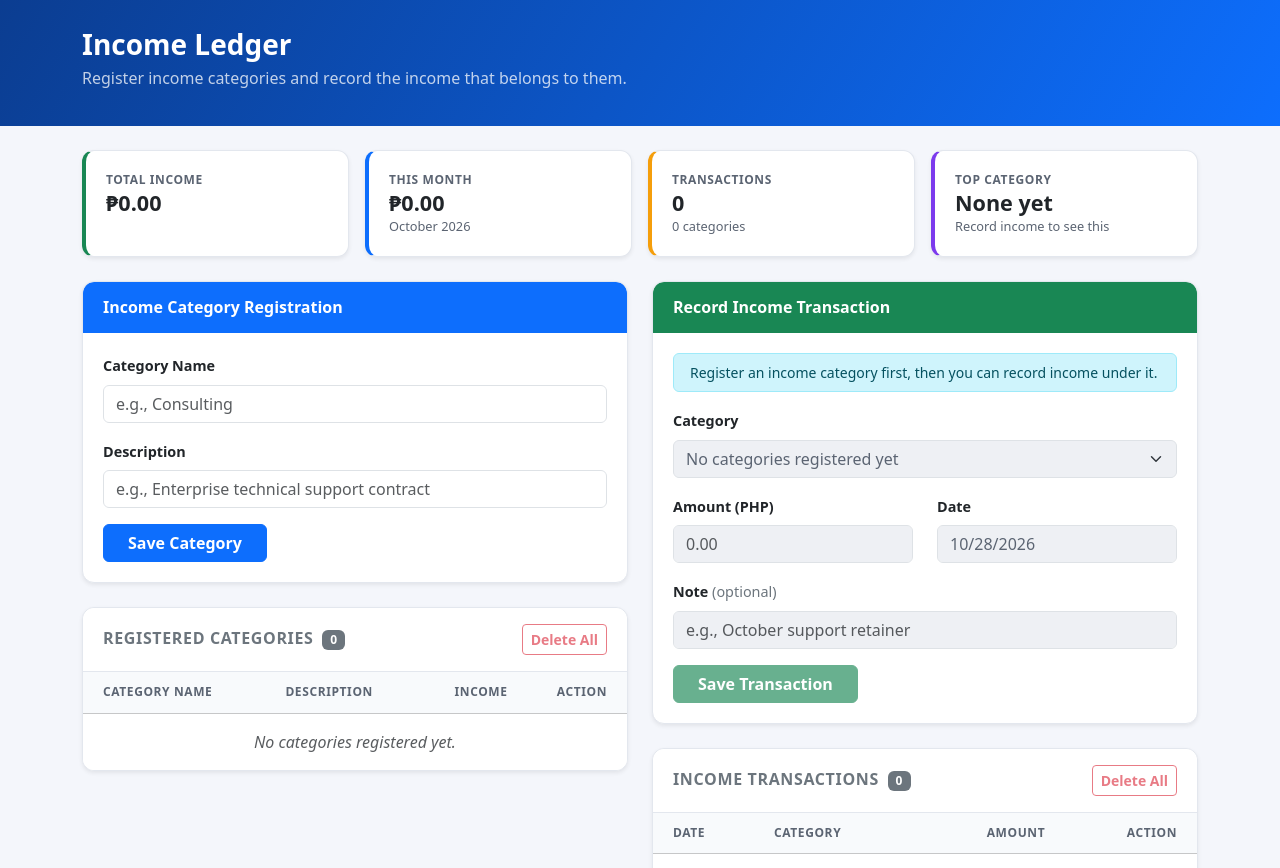
Test: income transactions › records income, updates totals and summary cards, and resets the amount
Type "Consulting" into the field labelled "Category Name".
click(355, 404); type("Consulting")  # box [103,385,607,423]
Type "Support" into the field labelled "Description".
click(355, 489); type("Support")  # box [103,470,607,508]
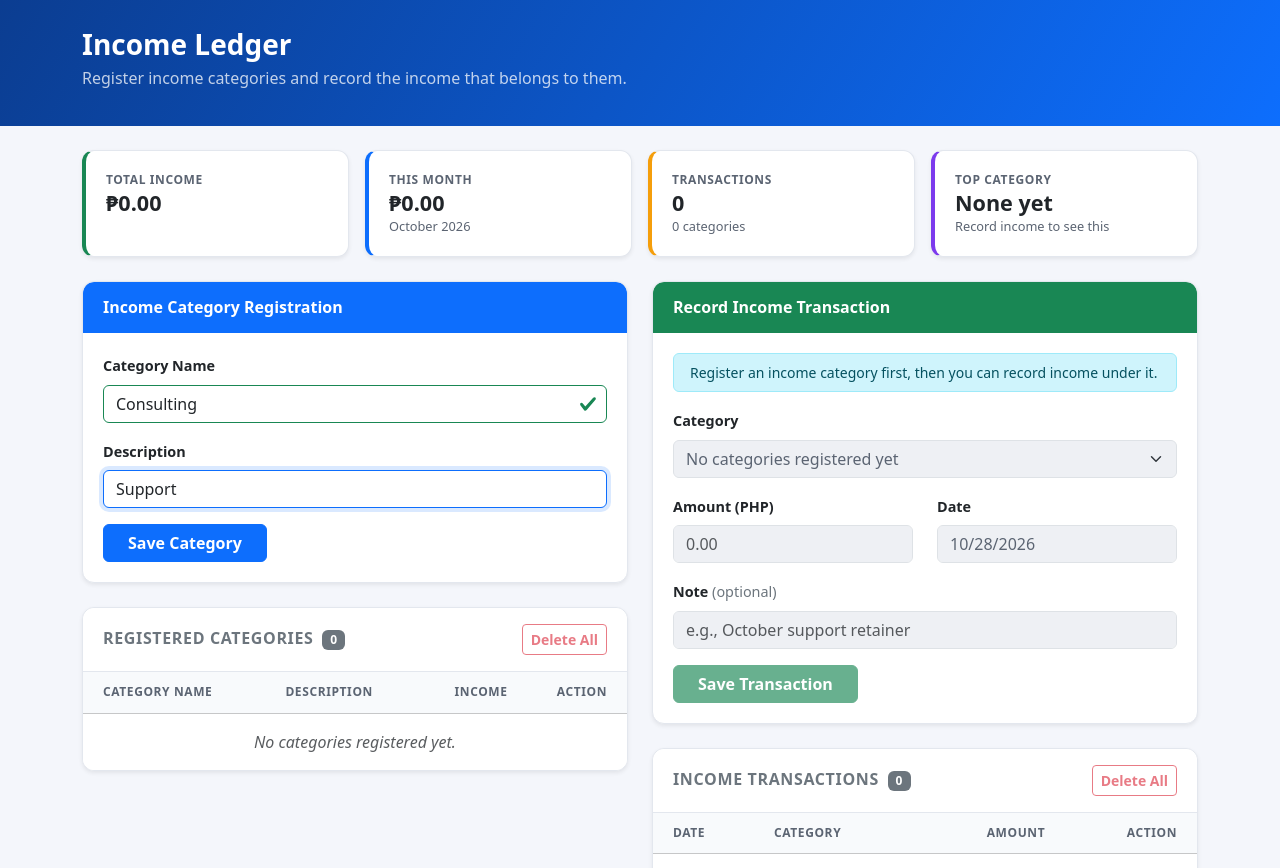
Click the button "Save Category".
click(185, 543)  # box [103,524,267,562]
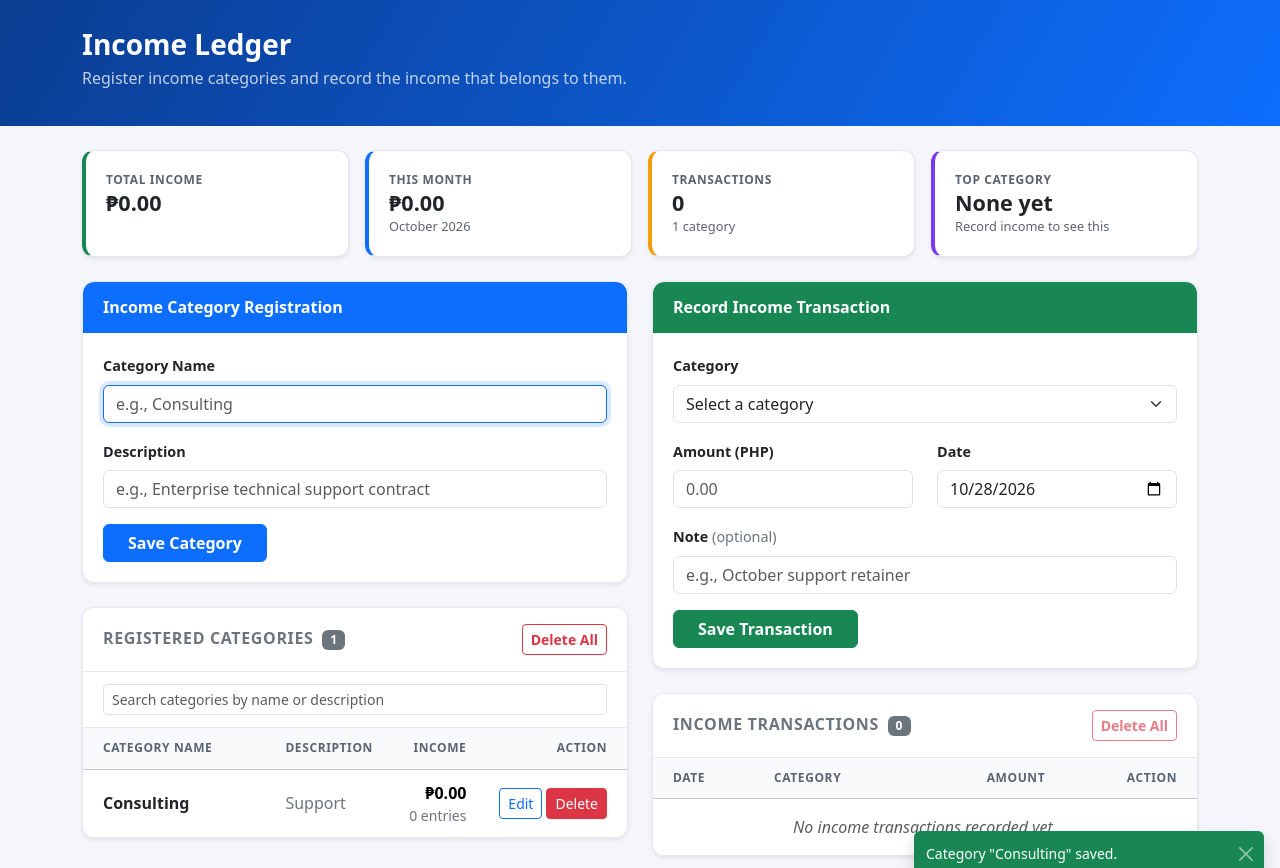
Select "Consulting" in the dropdown labelled "Category" at (925, 404), box [673,385,1177,423]
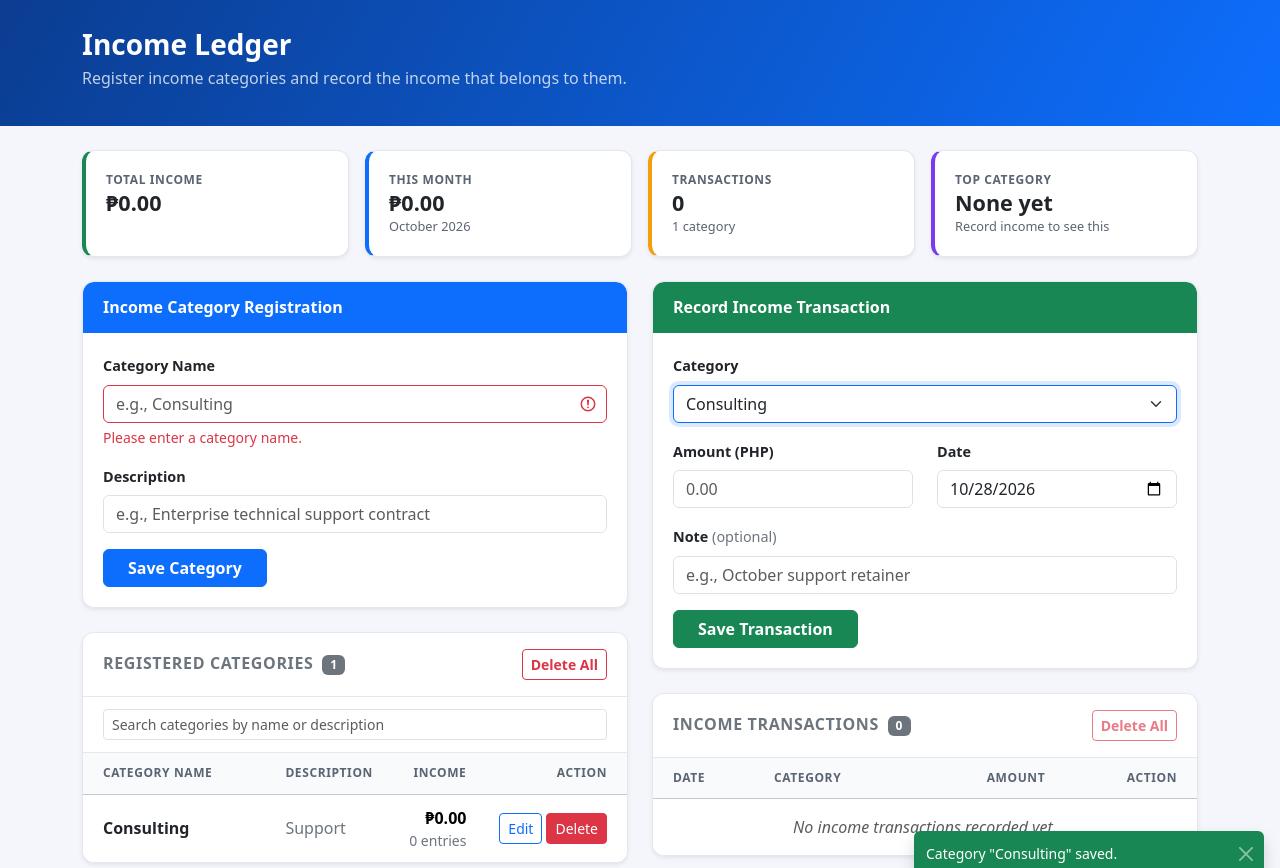
Type "1500.5" into the number field labelled "Amount (PHP)".
click(793, 489); type("1500.5")  # box [673,470,913,508]
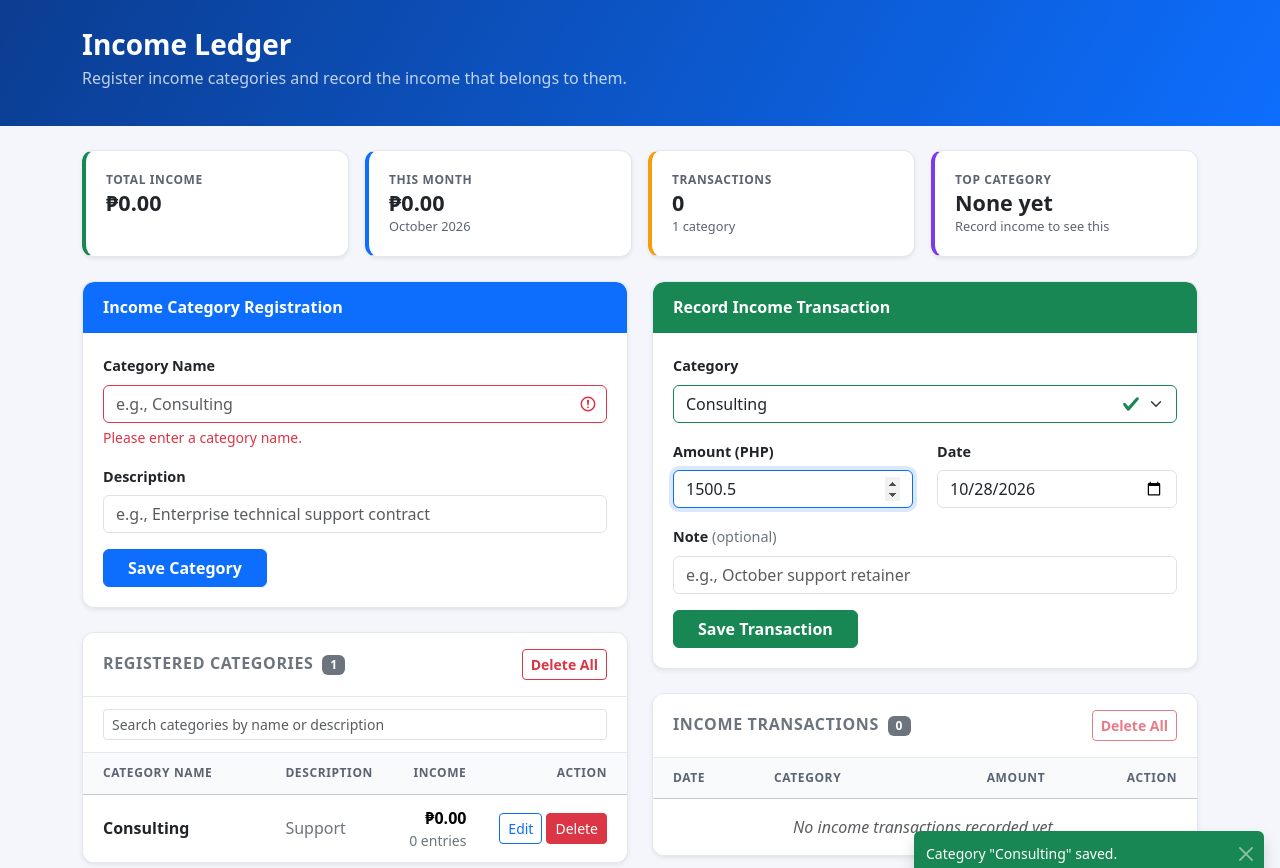
Type "Retainer" into the field labelled "Note (optional)".
click(925, 575); type("Retainer")  # box [673,556,1177,594]
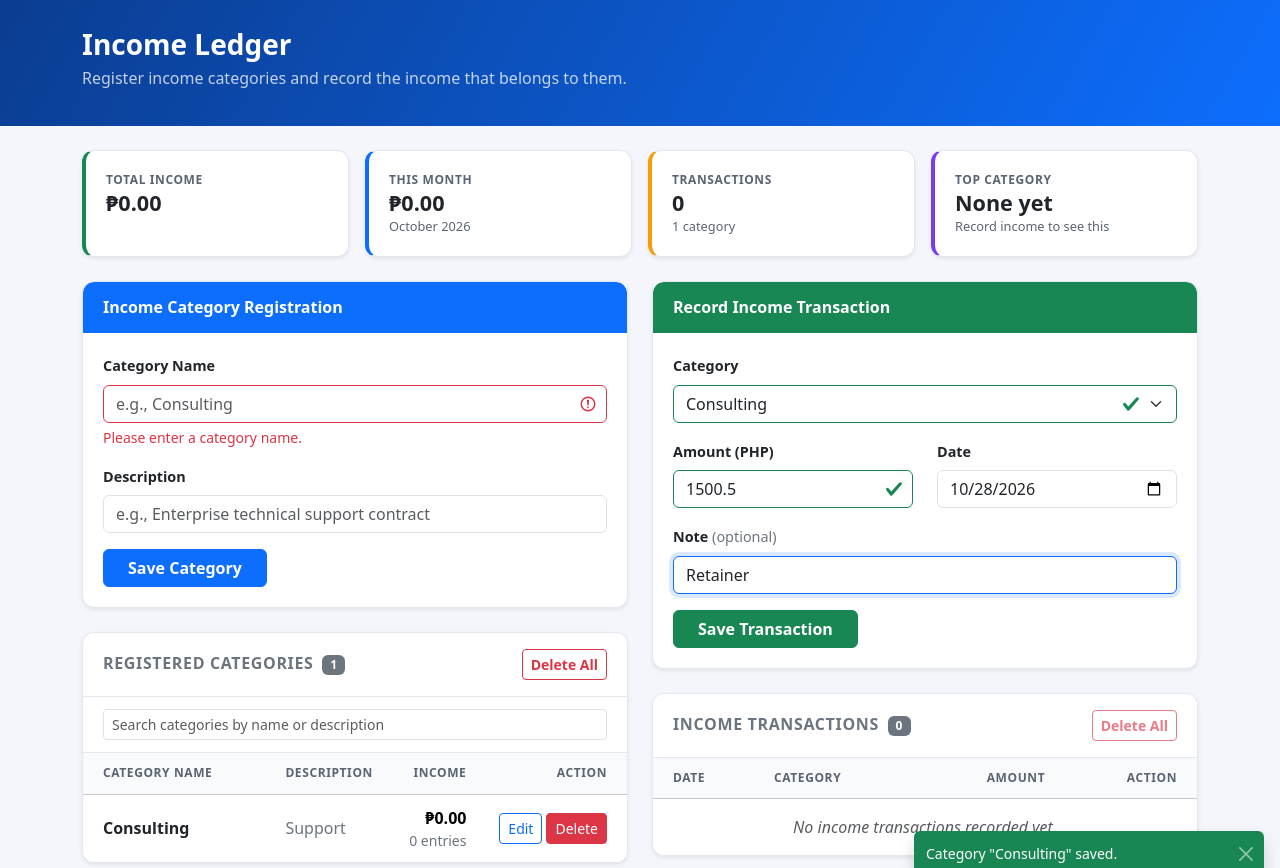
Click the button "Save Transaction".
click(765, 629)  # box [673,610,858,648]
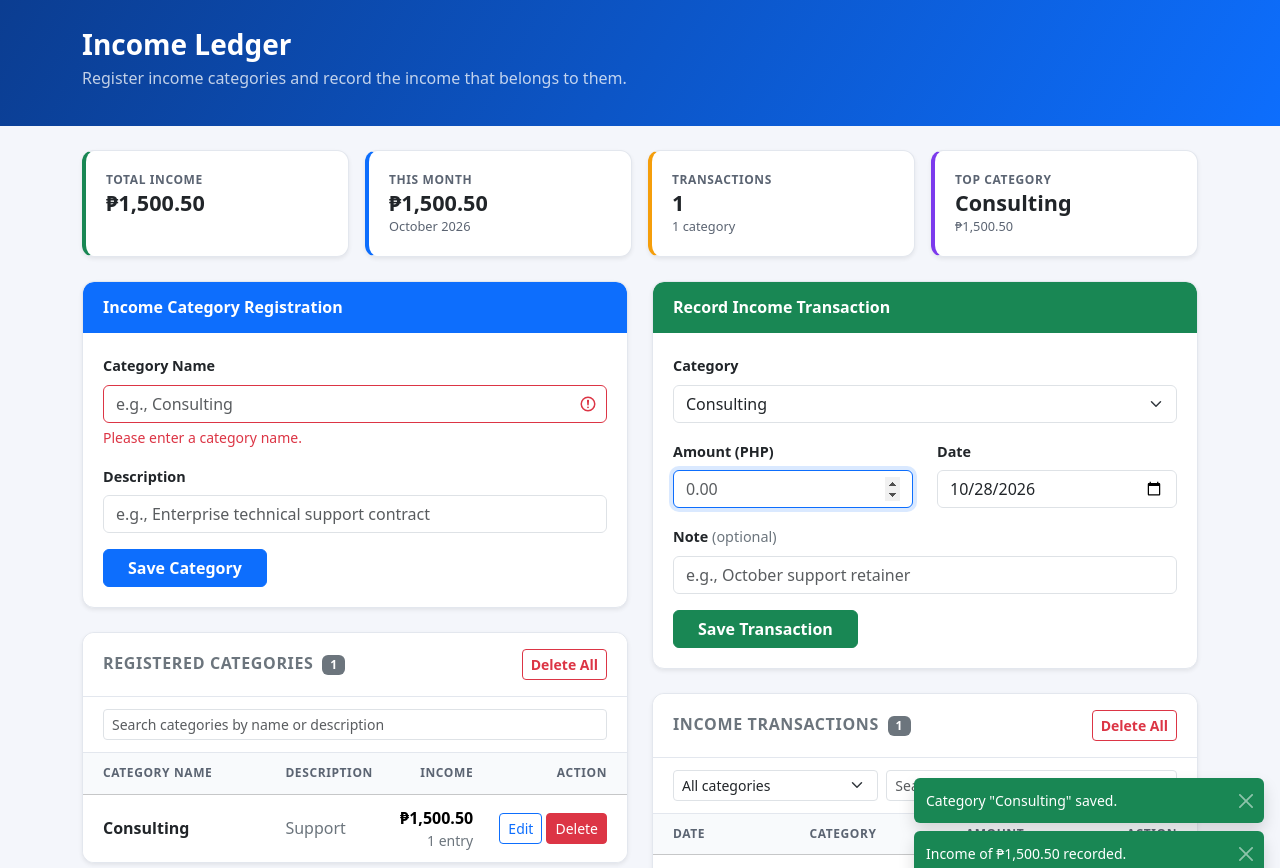
Check: the element named "Income summary" shows "1,500.50", box [106,188,205,217]
Check: the text "Consulting" below "Top category" is shown, box [955,188,1072,217]
Check: the text "₱1,500.50" next to "Support" is shown, box [400,807,473,829]
